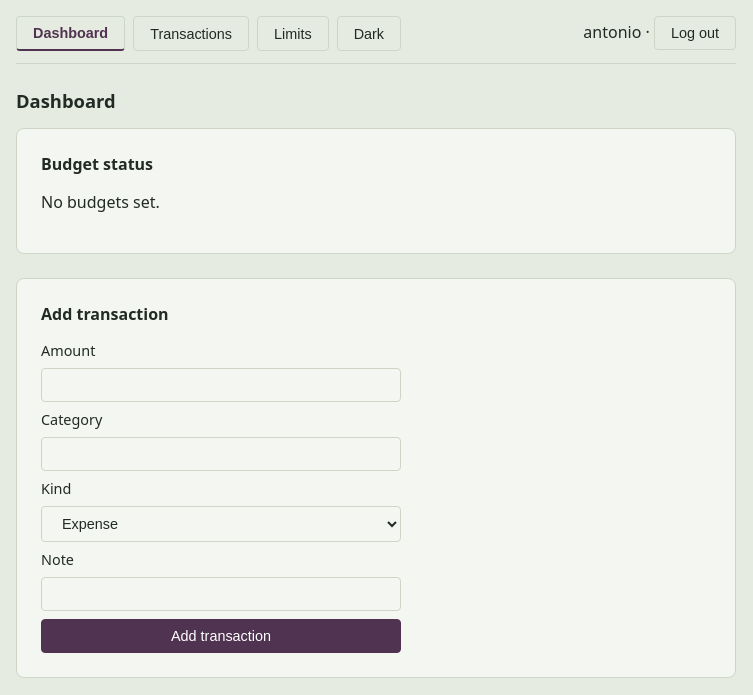
Test: App logout › lands on the logged-out UI state, with no unhandled rejection, when /api/logout fails
The width and height of the screenshot is (753, 695).
Click the button "Log out": (695, 33) [654,16,736,50]
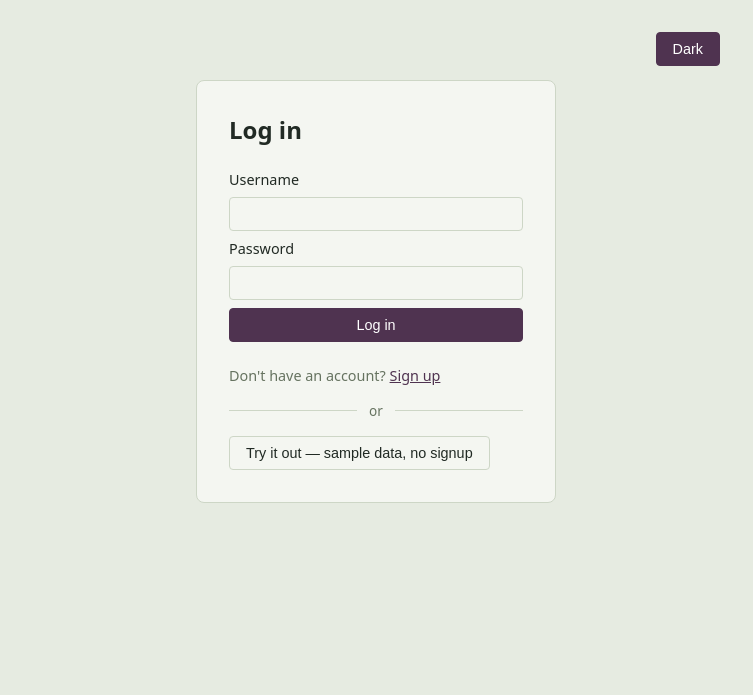
Expected: the field labelled "Username" is shown, [229,197,523,231]
